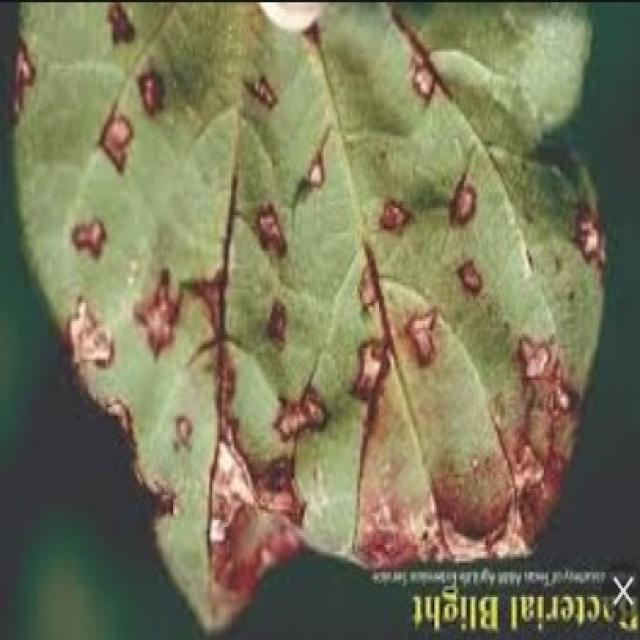Bacterial Blight: (133, 144, 507, 407)
